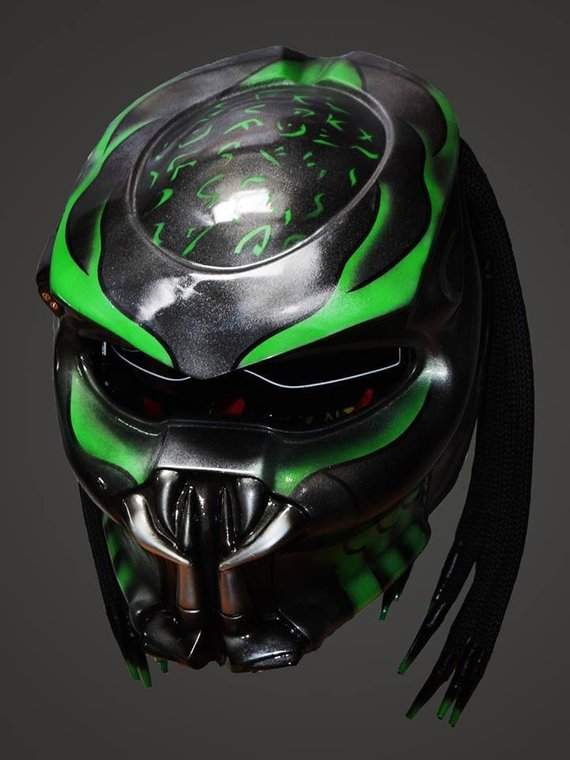with_helmet: (30, 28, 475, 696)
